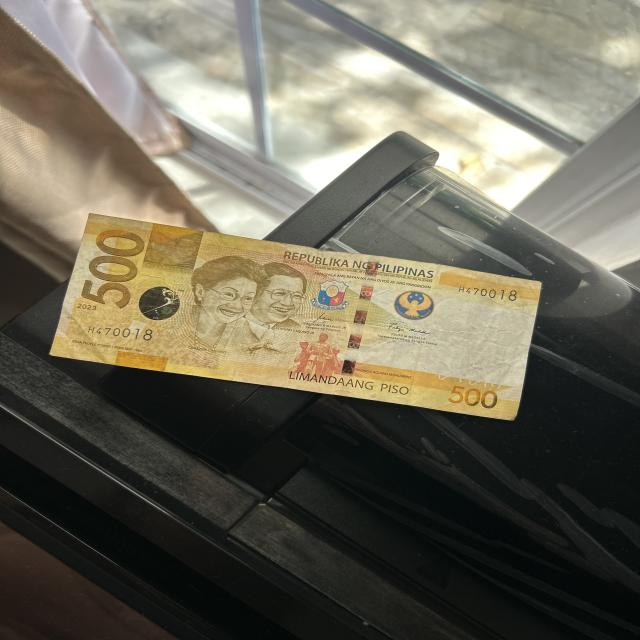concealed_value: (146, 230, 197, 270)
optically_variable_device: (133, 285, 182, 321)
see_through_mark: (438, 365, 506, 391)
